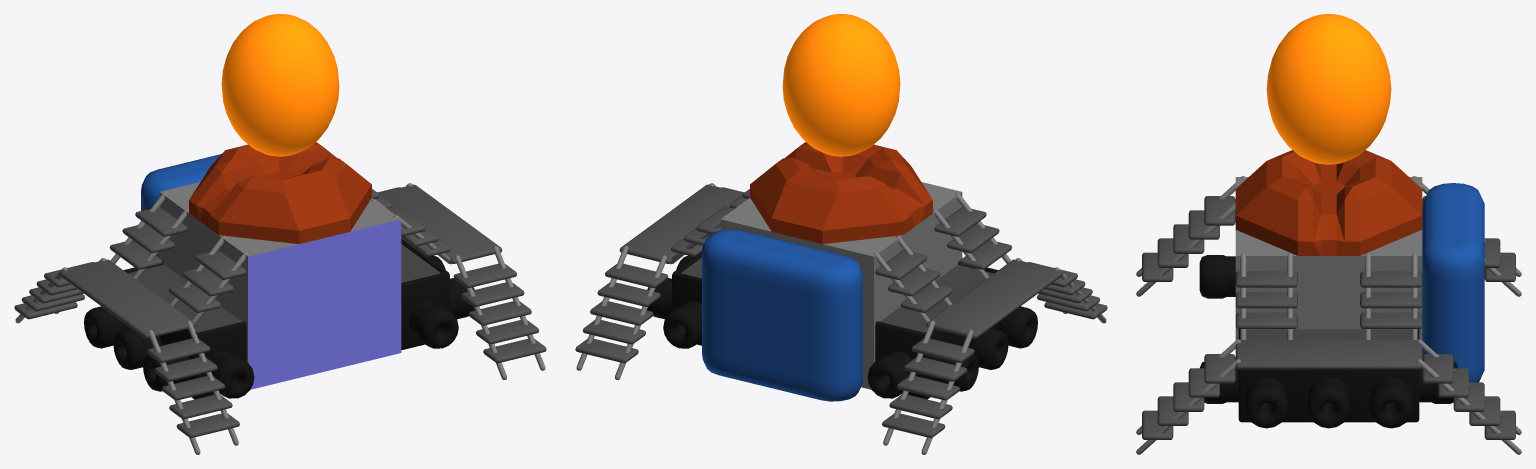
Rendered from LastLuna_Model_Station_Portal.fbx.
The picture shows the model from 3 angles, left to right: view 1: azimuth 30°, elevation 25°; view 2: azimuth 150°, elevation 25°; view 3: azimuth 270°, elevation 25°; orthographic projection. The views are drawn at different scales.
Parts seen in each view (by area): view 1: Box001, Stair_Platform001, Water_Collector001, Portal_Base001, Portal001, Stair_Support001, Water_Tank001; view 2: Stair_Platform001, Water_Tank001, Portal_Base001, Portal001, Water_Collector001, Box001, Stair_Support001; view 3: Stair_Platform001, Portal_Base001, Portal001, Water_Collector001, Water_Tank001, Box001, Stair_Support001.
Boxes of the visible parts, x1,y1,x2,y2 form: Box001: [159, 182, 401, 389]; Stair_Platform001: [14, 184, 546, 437]; Water_Collector001: [84, 238, 474, 399]; Portal_Base001: [189, 142, 371, 243]; Portal001: [221, 14, 339, 156]; Stair_Support001: [15, 183, 545, 454]; Water_Tank001: [141, 154, 221, 257]; Stair_Platform001: [575, 184, 1107, 437]; Water_Tank001: [702, 229, 862, 401]; Portal_Base001: [750, 142, 932, 243]; Portal001: [782, 14, 900, 156]; Water_Collector001: [647, 252, 1037, 399]; Box001: [720, 182, 962, 389]; Stair_Support001: [576, 183, 1106, 454]; Stair_Platform001: [1142, 196, 1515, 439]; Portal_Base001: [1235, 150, 1422, 255]; Portal001: [1266, 14, 1391, 164]; Water_Collector001: [1199, 255, 1457, 428]; Water_Tank001: [1422, 183, 1484, 382]; Box001: [1235, 177, 1422, 340]; Stair_Support001: [1136, 176, 1521, 454].
Size of the model in its own units: 700 by 615 by 619.
